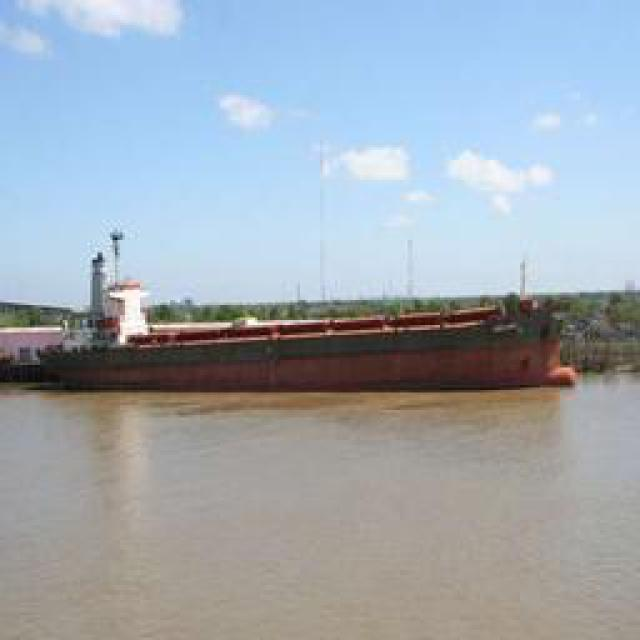Ship: (39, 296, 579, 396)
